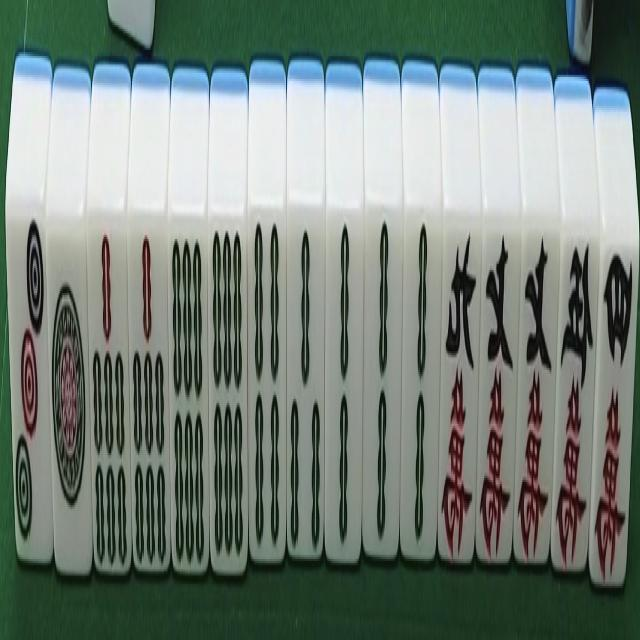1D: (46, 61, 94, 592)
2B: (360, 61, 403, 576), (400, 62, 443, 575), (325, 60, 365, 577)
3B: (286, 58, 326, 578)
3D: (6, 54, 55, 585)
4B: (249, 61, 287, 584)
4C: (589, 97, 639, 601)
5C: (552, 68, 600, 584)
6B: (167, 66, 210, 596), (209, 66, 249, 590)
7B: (128, 56, 173, 593), (88, 63, 133, 599)
7C: (513, 64, 560, 585), (475, 64, 522, 581)
9C: (438, 65, 482, 579)
